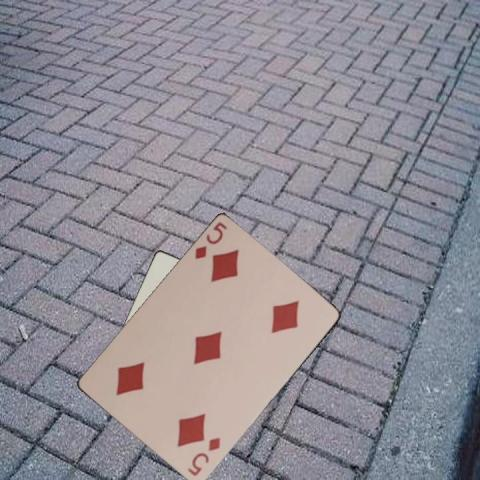5d: (184, 434, 222, 478), (191, 220, 229, 262)
